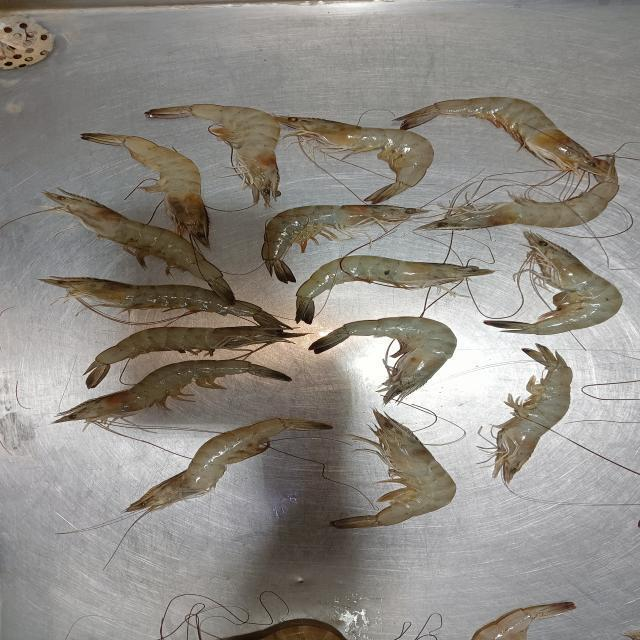shrimp: (127, 418, 329, 511), (395, 97, 614, 178), (45, 192, 226, 288), (54, 359, 291, 423), (81, 133, 210, 248), (332, 410, 455, 527), (270, 116, 433, 203), (485, 232, 622, 334), (416, 163, 618, 230), (147, 105, 279, 205), (85, 327, 303, 387), (309, 317, 455, 403), (263, 205, 415, 280), (41, 277, 281, 321), (494, 345, 571, 481), (296, 256, 493, 309), (472, 602, 575, 639), (221, 619, 345, 640)
